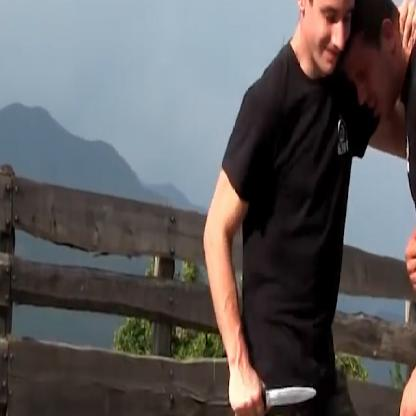knife: (224, 371, 324, 415)
